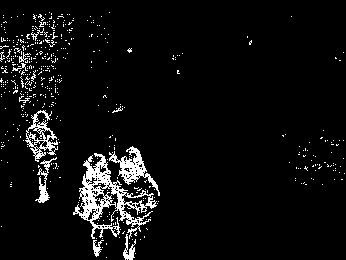person: (117, 145, 160, 260), (75, 151, 120, 255), (27, 109, 60, 204)
